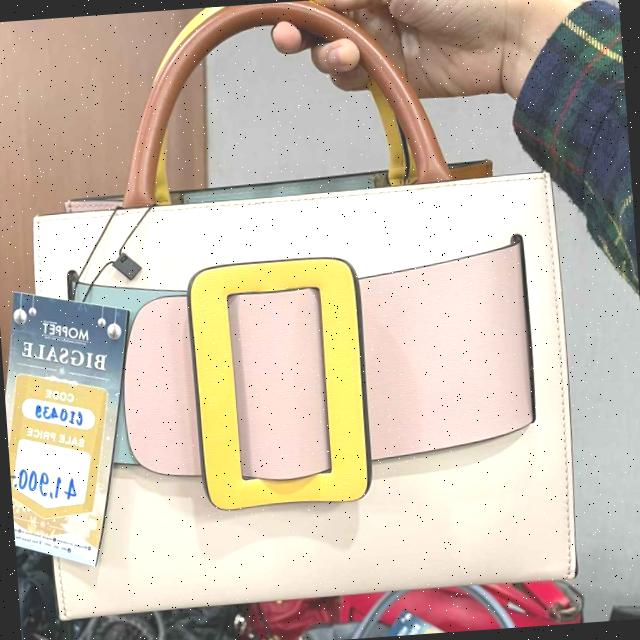handbag: (4, 104, 627, 632)
